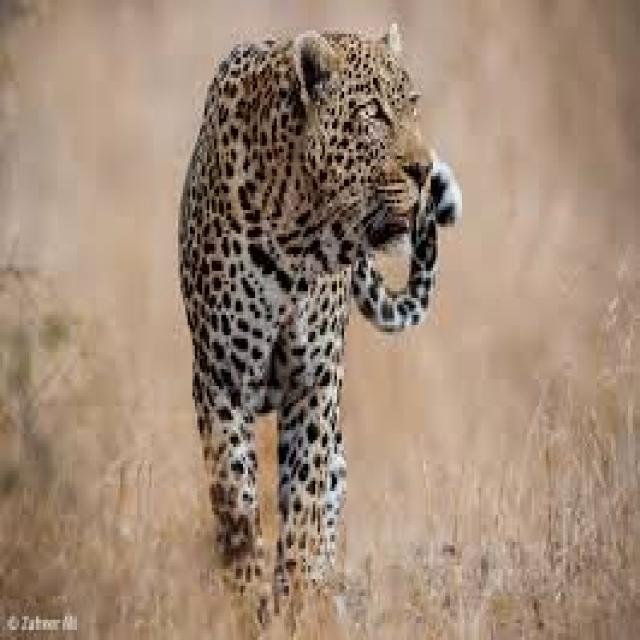leopard: (178, 24, 460, 623)
